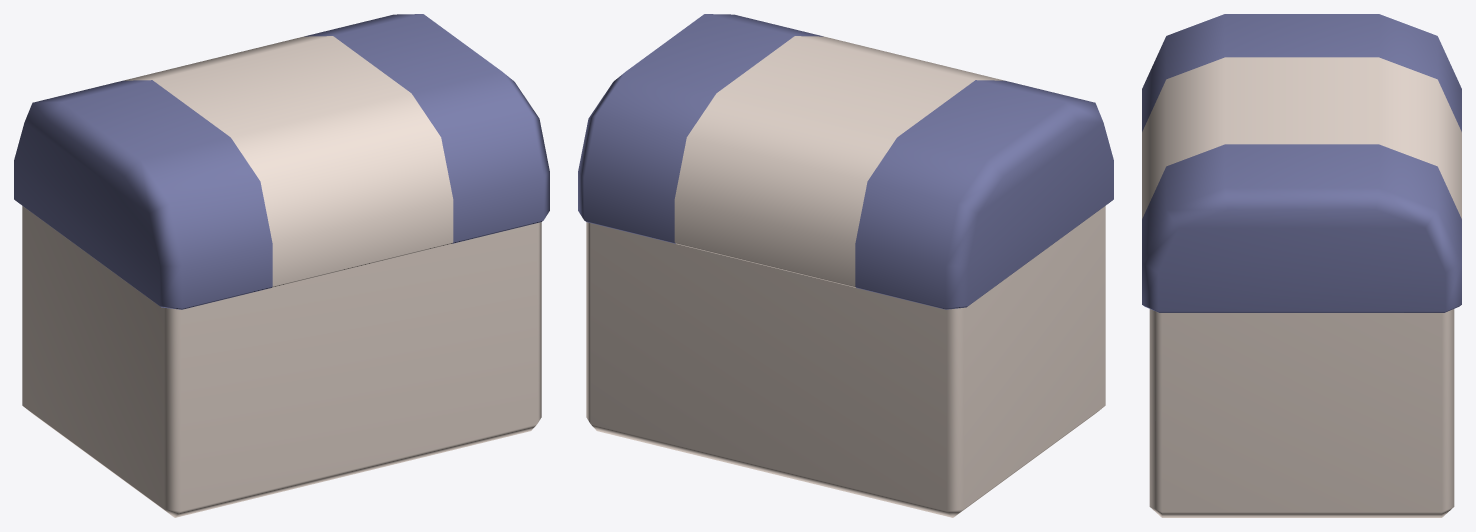
File: Chest_2.glb
3 views of the same model, side by side, from view 1: azimuth 30°, elevation 25°; view 2: azimuth 150°, elevation 25°; view 3: azimuth 270°, elevation 25° (orthographic).
Parts seen in each view (by area): view 1: Chest_2; view 2: Chest_2; view 3: Chest_2.
Part boxes in pixels (x1,y1,x2,y2): Chest_2: [14, 14, 549, 517]; Chest_2: [578, 14, 1113, 517]; Chest_2: [1142, 14, 1461, 517].
Bounding box in the file's own units: 0.215 × 0.1769 × 0.1548.
Materials: 1 (1 with a texture image).
